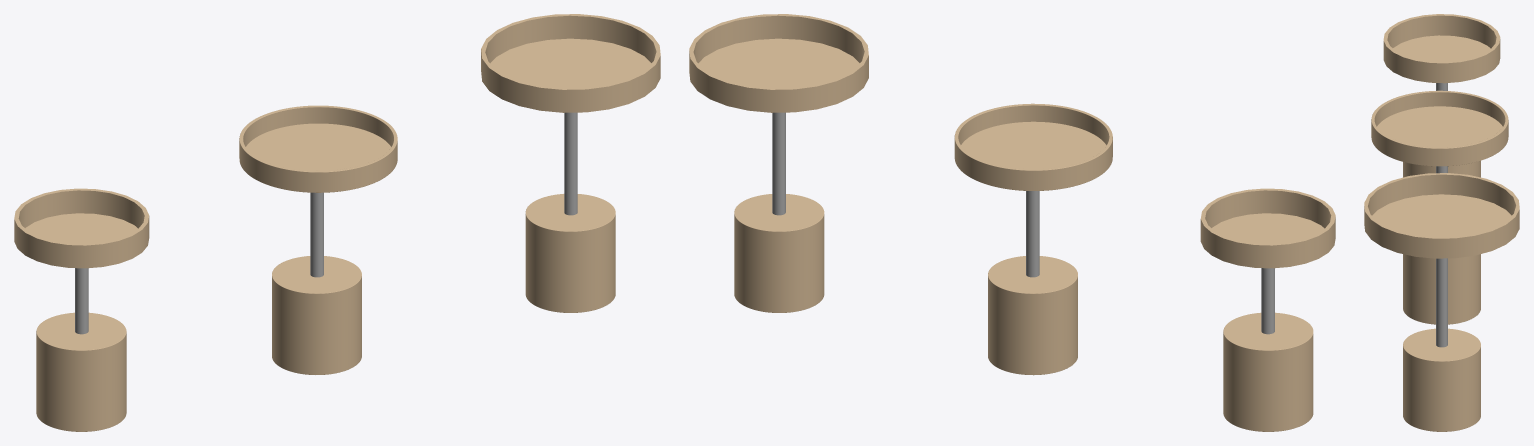
File: mesa-auxiliar-semillon.glb
3 renders of one model, left to right at view 1: azimuth 30°, elevation 25°; view 2: azimuth 150°, elevation 25°; view 3: azimuth 270°, elevation 25°, orthographic. The views are drawn at different scales.
Size of the model in its own units: 1.6 by 0.5931 by 0.3985.
